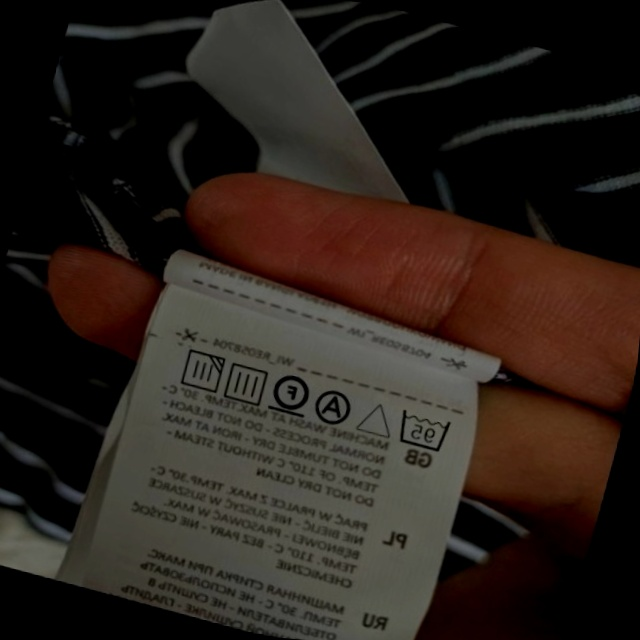95C: (391, 404, 455, 456)
bleach: (355, 394, 399, 443)
drip_dry: (220, 357, 273, 409)
drip_dry_in_shade: (173, 344, 227, 397)
dry_clean: (311, 385, 358, 430)
dry_clean_petrol_only: (266, 366, 315, 420)
